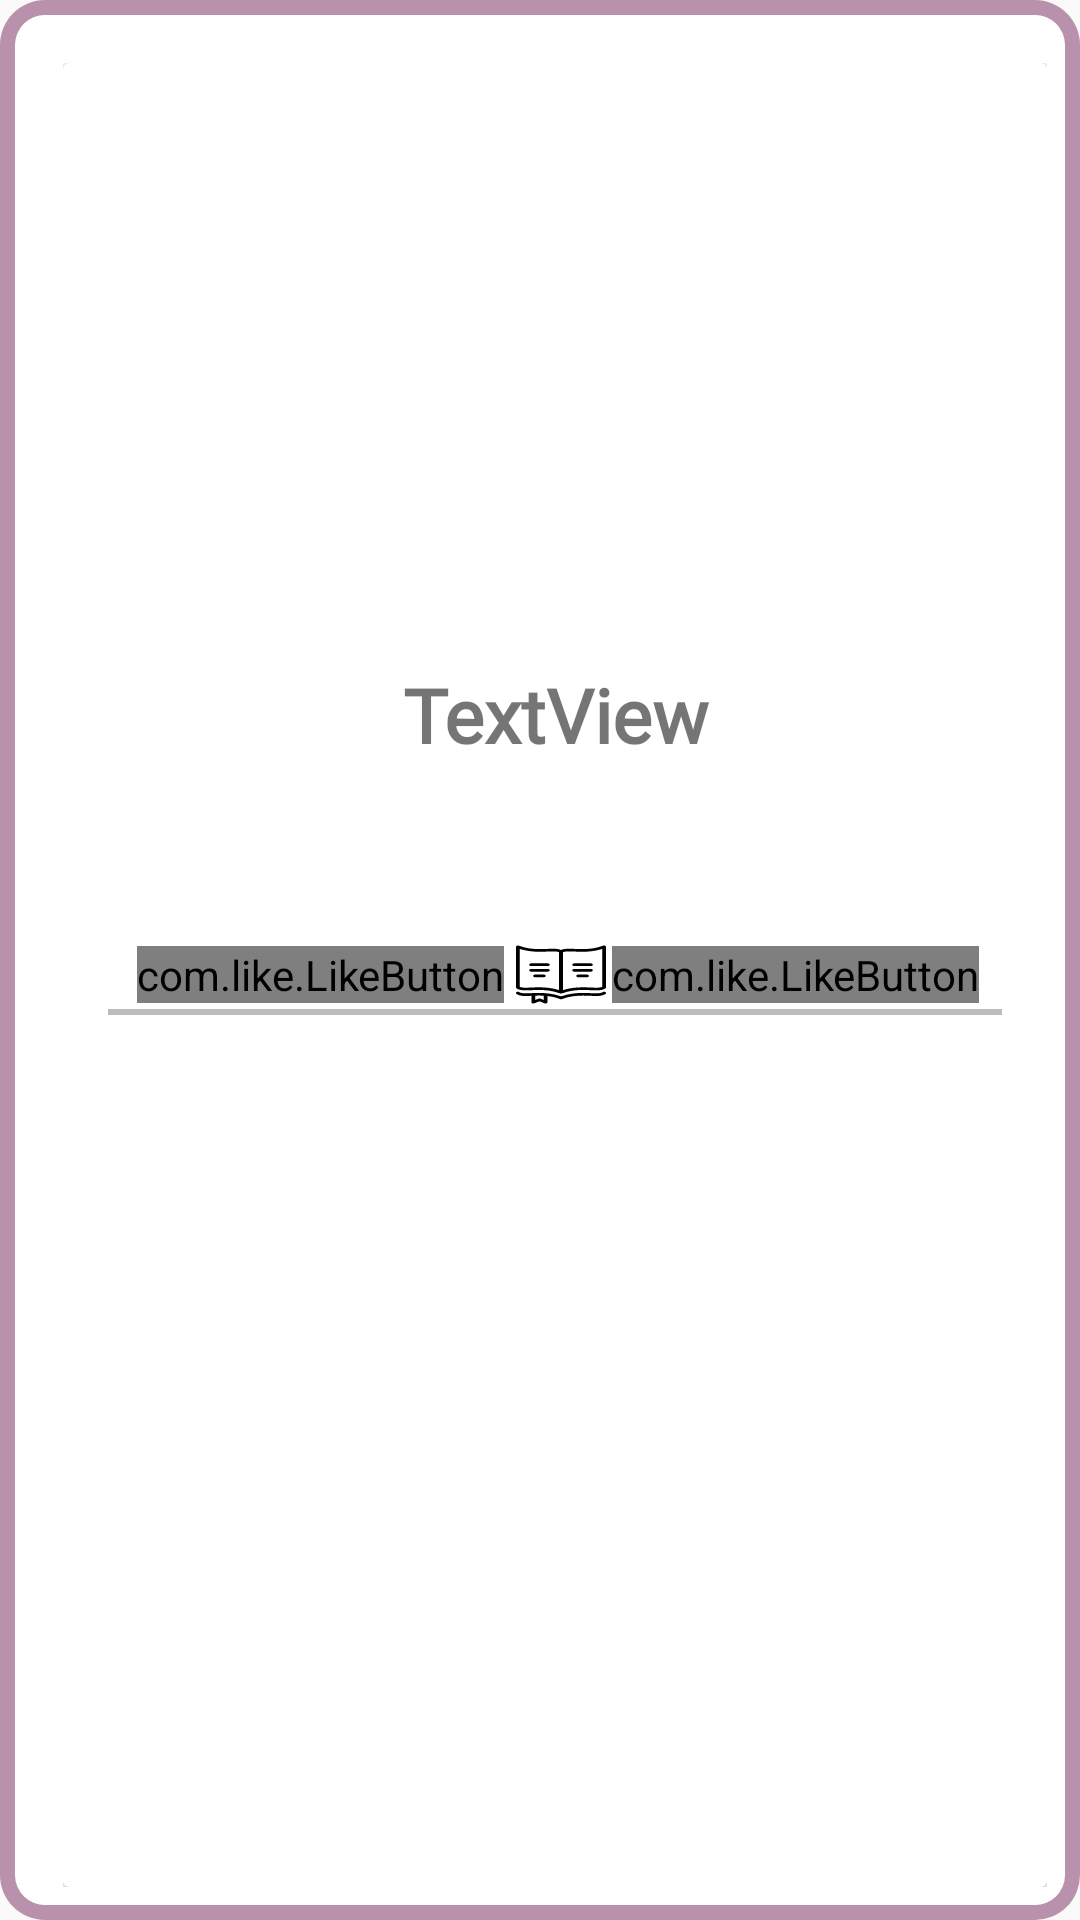

Icon bounding boxes for this 1080×1920 phone screenshot, format [x1=x1, y1=y1, x2=x2, y2=y2]:
book: [x1=516, y1=945, x2=606, y2=1004]
